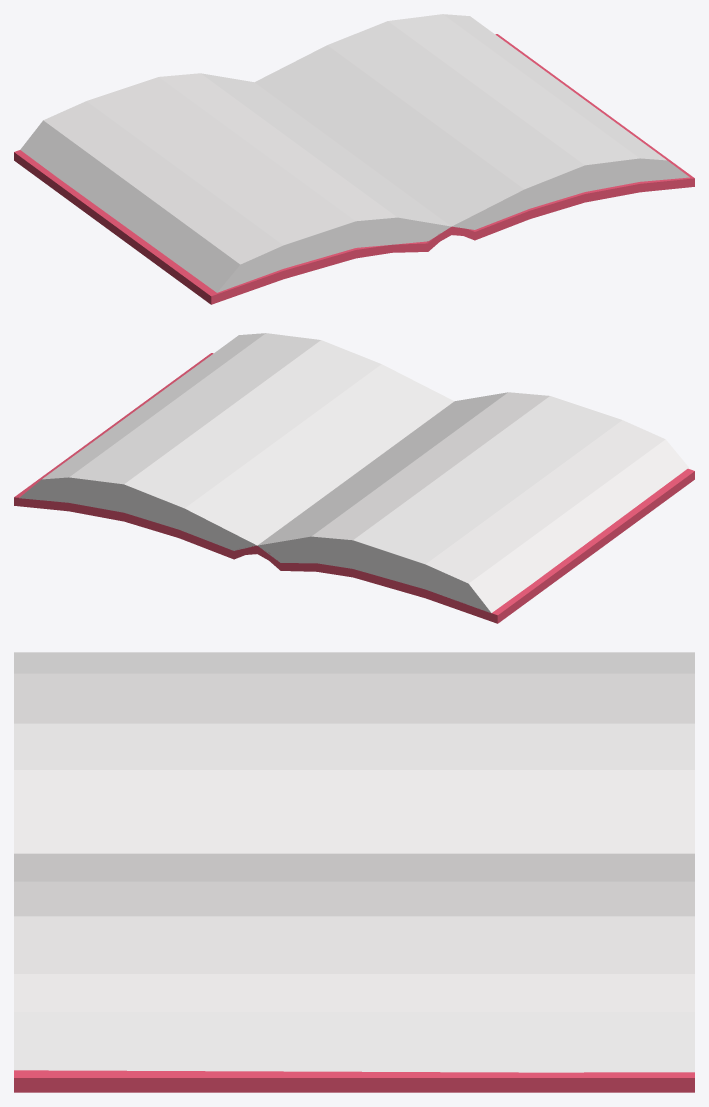
Rendered from OpenBook_2.fbx.
3 renders of one model, top to bottom at view 1: azimuth 30°, elevation 25°; view 2: azimuth 150°, elevation 25°; view 3: azimuth 270°, elevation 25°, orthographic. The views are drawn at different scales.
Visible parts, largest first — view 1: Open Book_2; view 2: Open Book_2; view 3: Open Book_2.
Part boxes in pixels (<box>): Open Book_2: <box>14,14,694,304</box>; Open Book_2: <box>14,333,694,623</box>; Open Book_2: <box>14,652,694,1092</box>.
Bounding box in the file's own units: 114 × 10.83 × 80.14.
